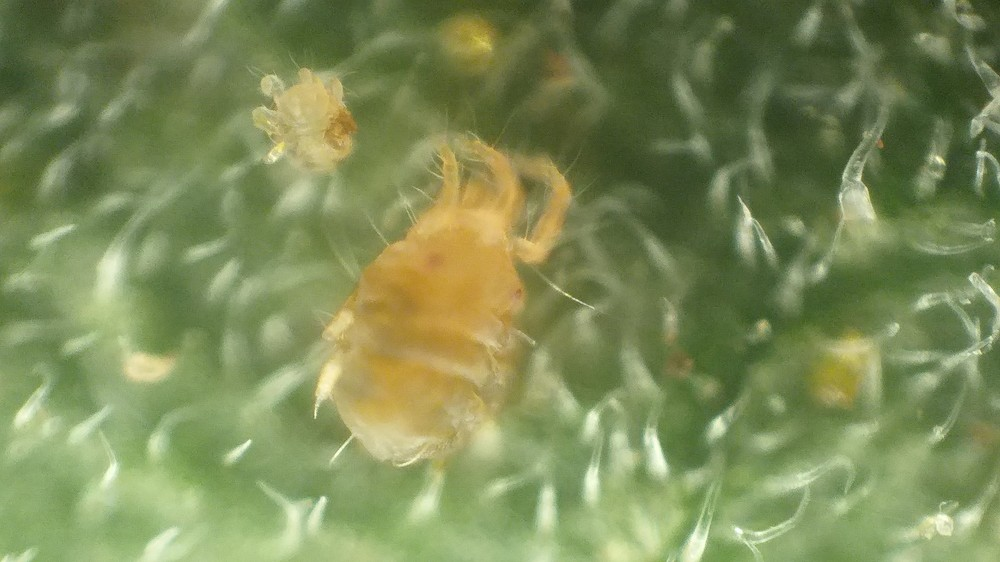Aracnido Rojo: (313, 131, 583, 501), (247, 56, 374, 188)
